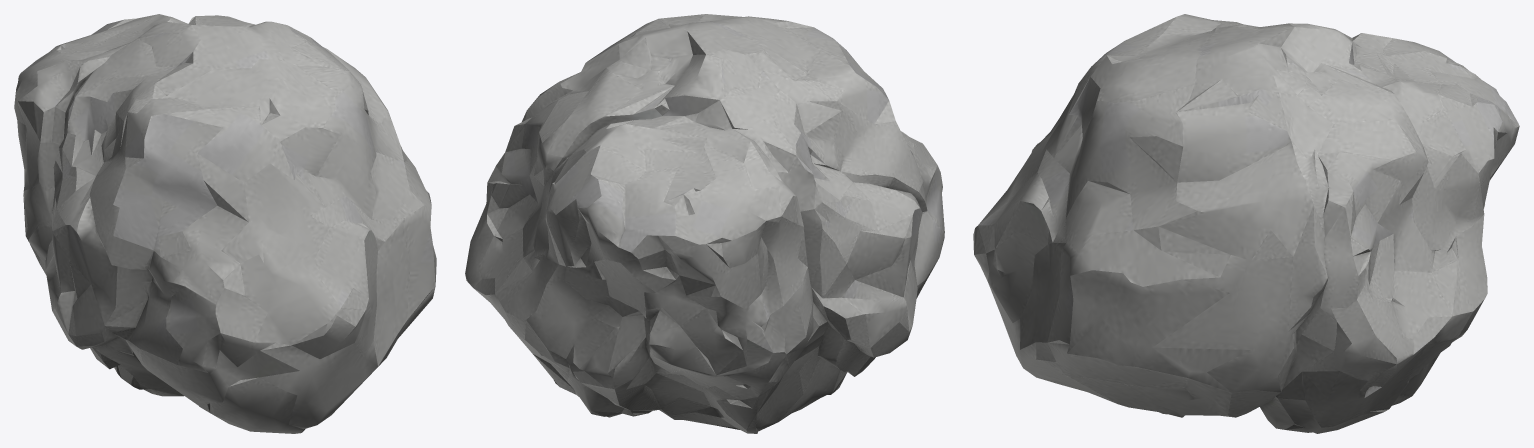
The model's file is boulder.glb.
3 views of the same model, side by side, from view 1: azimuth 30°, elevation 25°; view 2: azimuth 150°, elevation 25°; view 3: azimuth 270°, elevation 25° (orthographic). The views are drawn at different scales.
Parts seen in each view (by area): view 1: mesh_node; view 2: mesh_node; view 3: mesh_node.
Boxes of the visible parts, x1,y1,x2,y2 form: mesh_node: (14,14,436,433); mesh_node: (465,14,944,433); mesh_node: (973,14,1519,433).
Bounding box in the file's own units: 1.55 × 1.44 × 1.9.
Materials: 1 (1 with a texture image).
